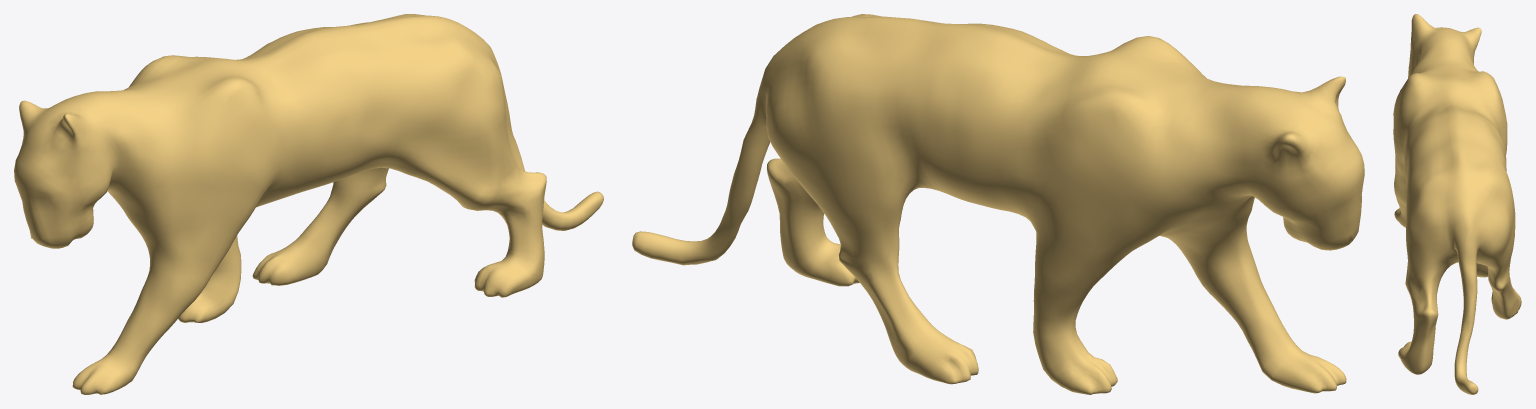
File: panther.glb
The picture shows the model from 3 angles, left to right: view 1: azimuth 30°, elevation 25°; view 2: azimuth 150°, elevation 25°; view 3: azimuth 270°, elevation 25°; orthographic projection. The views are drawn at different scales.
Visible parts, largest first — view 1: Object_2; view 2: Object_2; view 3: Object_2.
Part boxes in pixels (bbox=[...]): Object_2: bbox=[14, 14, 603, 394]; Object_2: bbox=[632, 14, 1364, 394]; Object_2: bbox=[1393, 14, 1521, 394].
Size of the model in its own units: 55.23 by 24.37 by 14.35.
